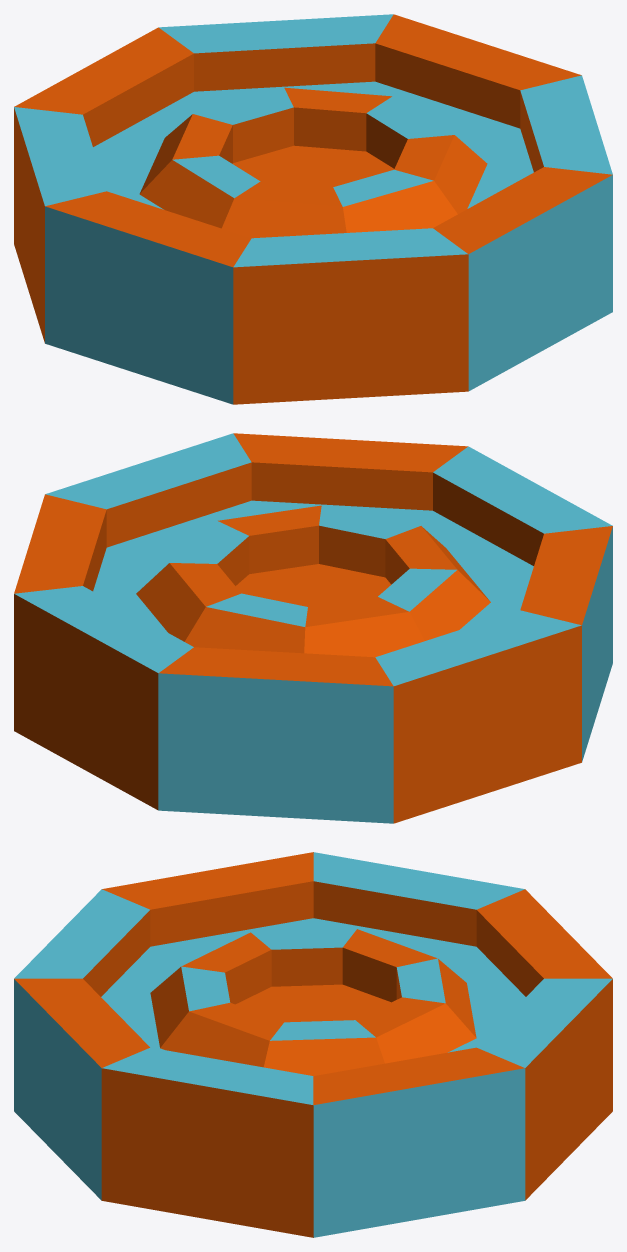
Rendered from PickUp.glb.
3 views of the same model, one above another, from view 1: azimuth 30°, elevation 25°; view 2: azimuth 150°, elevation 25°; view 3: azimuth 270°, elevation 25° (orthographic). The views are drawn at different scales.
Parts seen in each view (by area): view 1: Cylinder; view 2: Cylinder; view 3: Cylinder.
Part boxes in pixels (x1,y1,x2,y2): Cylinder: [14, 14, 612, 404]; Cylinder: [14, 433, 612, 823]; Cylinder: [14, 852, 612, 1237].
Bounding box in the file's own units: 2 × 0.4887 × 2.
